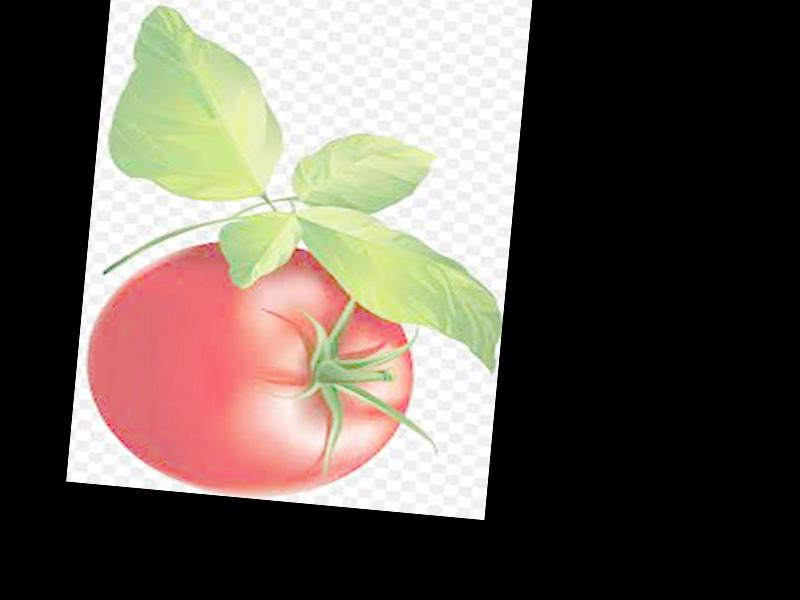Tomato: (76, 229, 424, 510)
